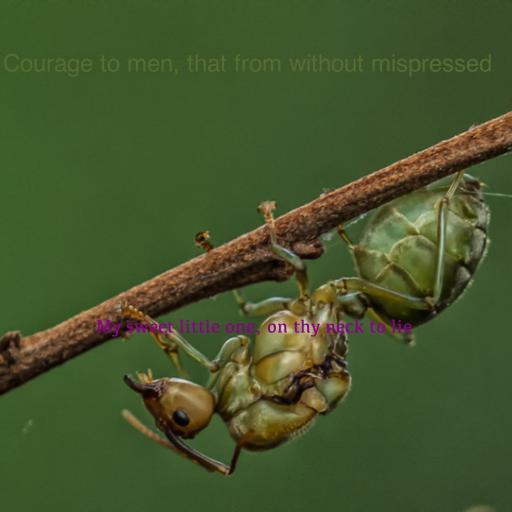Apple Chancery: (2, 53, 492, 77)
Kefa: (96, 319, 412, 337)
